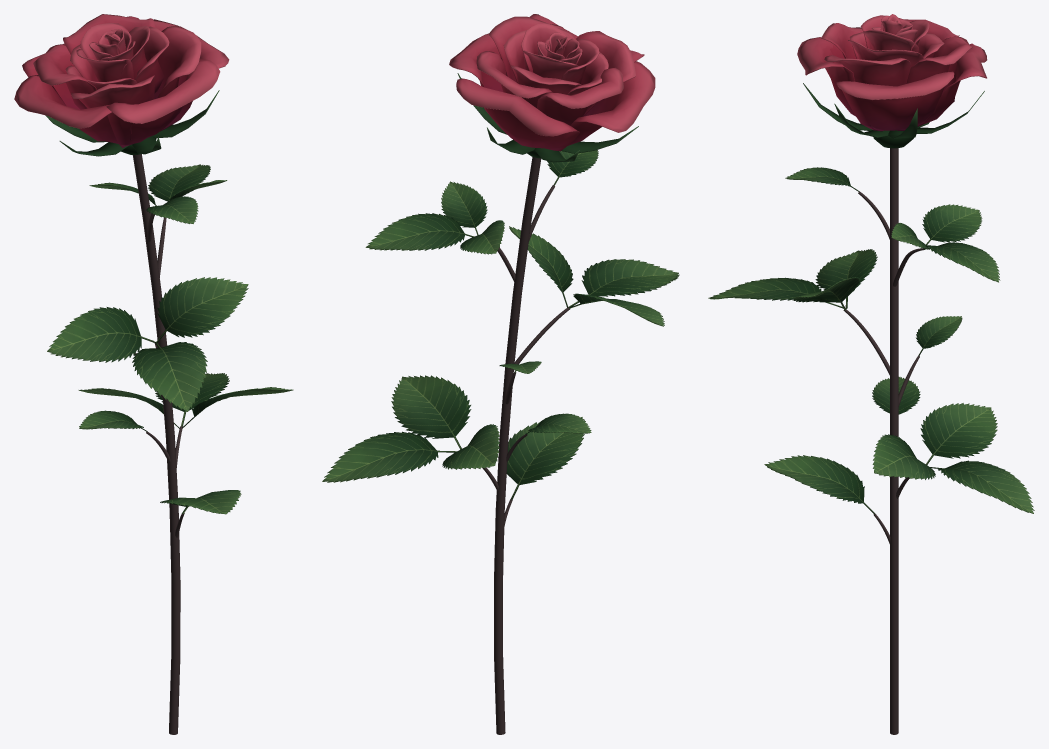
Rendered from FullRose.fbx.
The picture shows the model from 3 angles, left to right: view 1: azimuth 30°, elevation 25°; view 2: azimuth 150°, elevation 25°; view 3: azimuth 270°, elevation 25°; orthographic projection. The views are drawn at different scales.
Parts seen in each view (by area): view 1: Rose.001, StemLeaves, NurbsPath, NurbsPath.001; view 2: StemLeaves, Rose.001, NurbsPath, NurbsPath.001; view 3: StemLeaves, Rose.001, NurbsPath, NurbsPath.001.
Boxes of the visible parts, left/top/right/bottom form: Rose.001: left=14, top=14, right=229, bottom=156; StemLeaves: left=47, top=164, right=293, bottom=514; NurbsPath: left=132, top=154, right=180, bottom=734; NurbsPath.001: left=135, top=213, right=184, bottom=537; StemLeaves: left=322, top=150, right=679, bottom=500; Rose.001: left=449, top=14, right=655, bottom=162; NurbsPath: left=494, top=157, right=541, bottom=734; NurbsPath.001: left=482, top=185, right=570, bottom=526; StemLeaves: left=708, top=167, right=1034, bottom=514; Rose.001: left=797, top=14, right=987, bottom=148; NurbsPath: left=890, top=148, right=898, bottom=734; NurbsPath.001: left=843, top=191, right=924, bottom=544.
Bounding box in the file's own units: 41.08 × 110 × 47.24.
